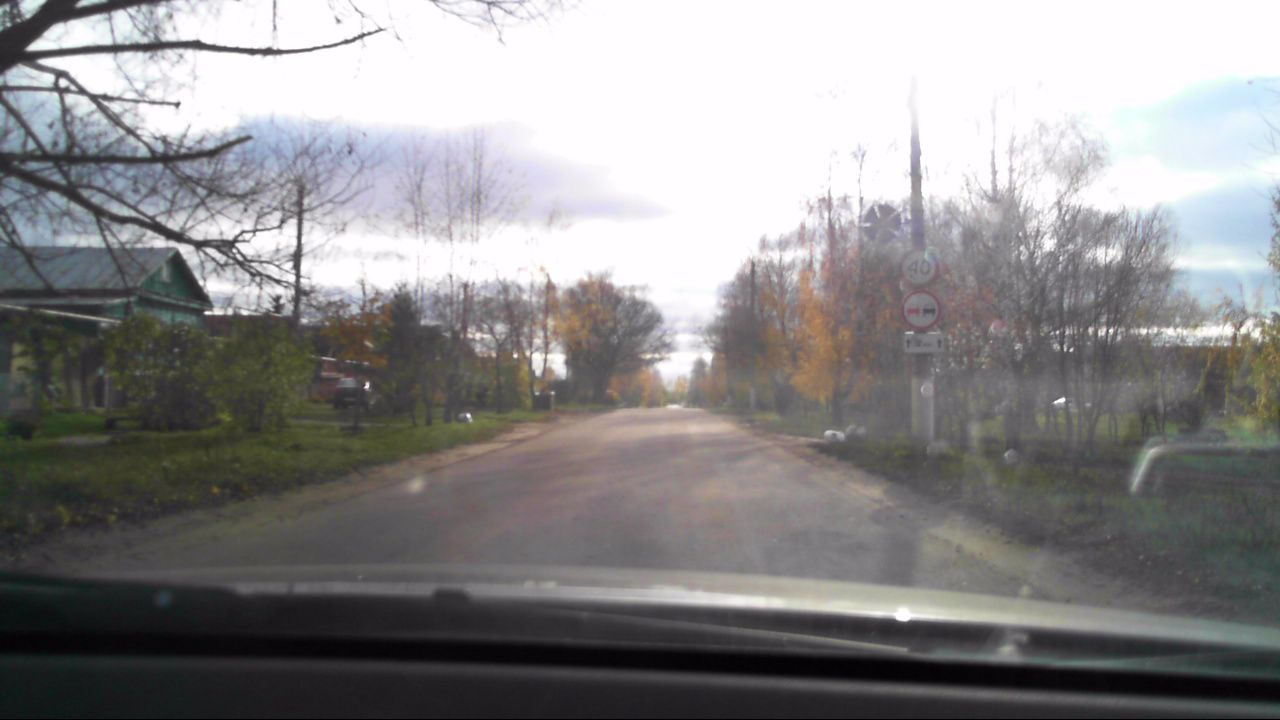speed_warning_40: (899, 247, 939, 286)
